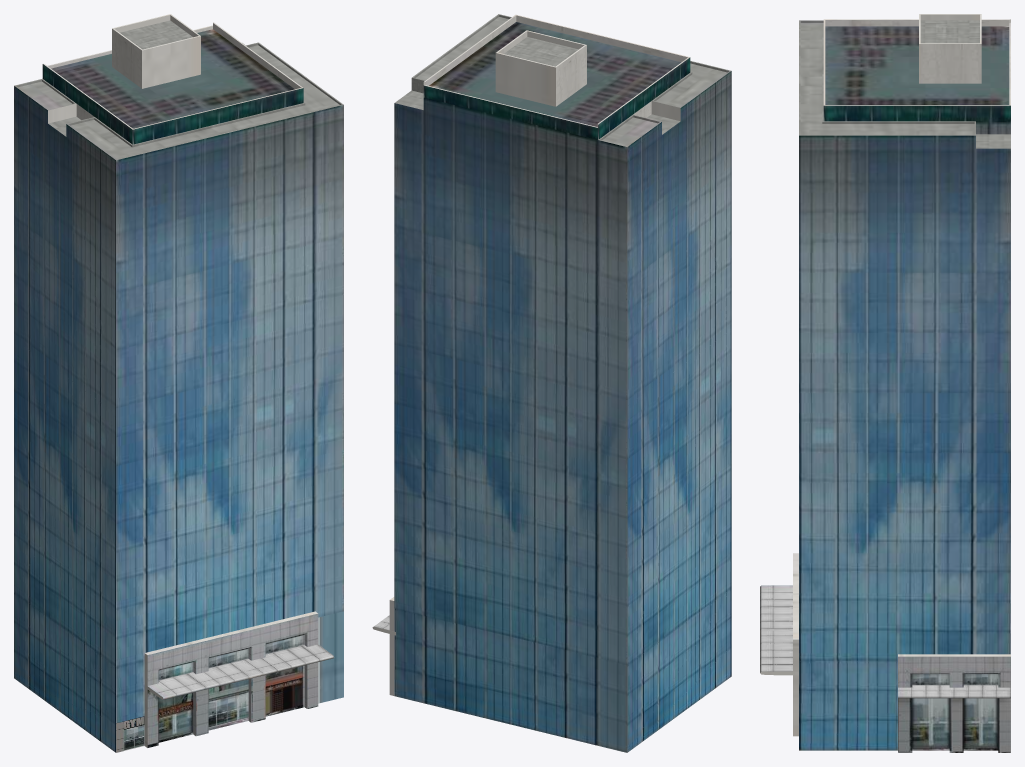
The picture shows the model from 3 angles, left to right: view 1: azimuth 30°, elevation 25°; view 2: azimuth 150°, elevation 25°; view 3: azimuth 270°, elevation 25°; orthographic projection. The views are drawn at different scales.
Visible parts, largest first — view 1: HN788_ToaNha169NguyenNgocVu; view 2: HN788_ToaNha169NguyenNgocVu; view 3: HN788_ToaNha169NguyenNgocVu.
Part boxes in pixels (x1,y1,x2,y2): HN788_ToaNha169NguyenNgocVu: [14, 14, 343, 752]; HN788_ToaNha169NguyenNgocVu: [372, 14, 731, 752]; HN788_ToaNha169NguyenNgocVu: [760, 14, 1010, 752].
Bounding box in the file's own units: 32.43 × 79.56 × 27.27.
1 material, 1 textured.
